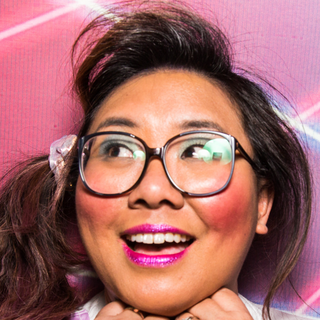eye: (97, 140, 140, 163), (179, 141, 219, 163)
